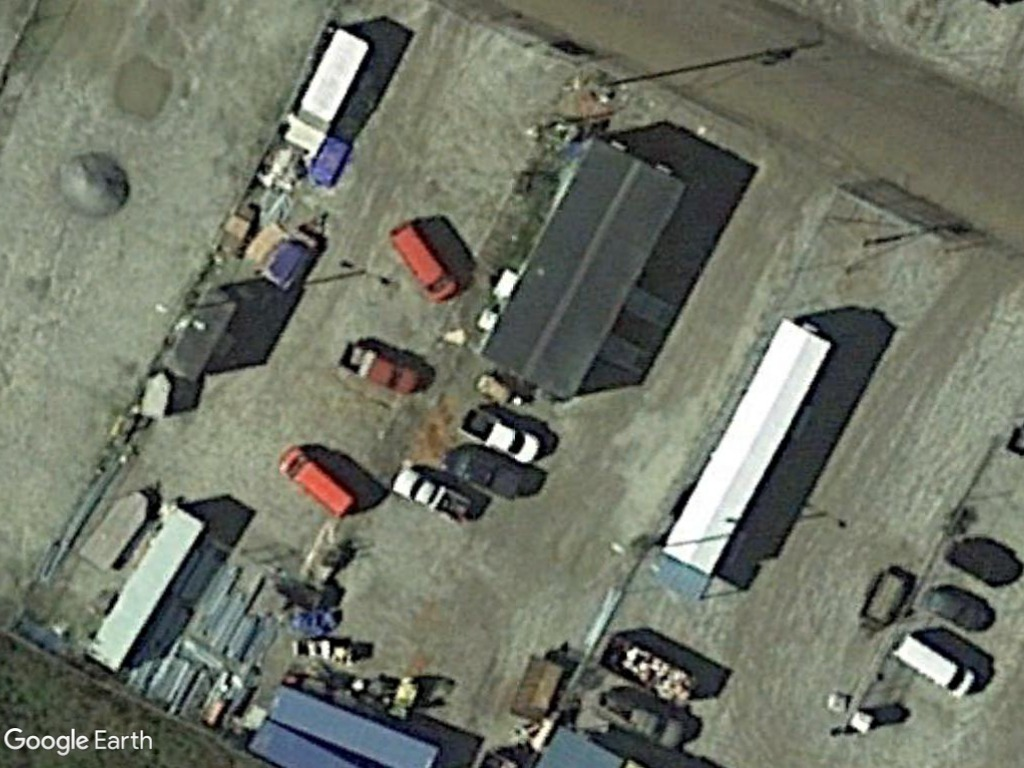other: (454, 404, 546, 470), (389, 462, 469, 523)
truck: (282, 26, 371, 159)
van: (886, 634, 979, 707), (270, 446, 359, 522), (386, 223, 463, 307)
